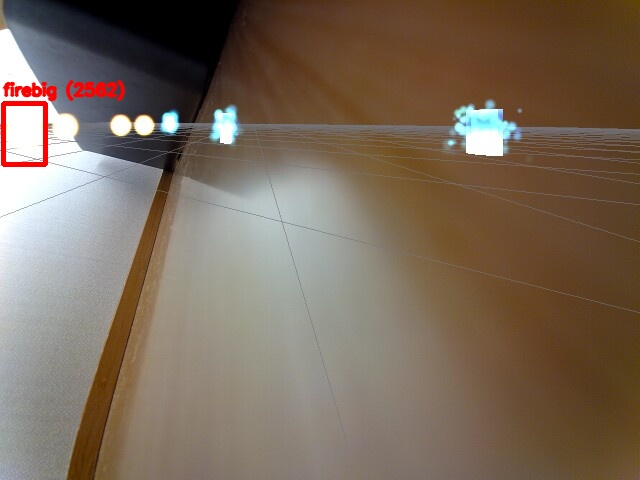firebig: (3, 103, 45, 164)
